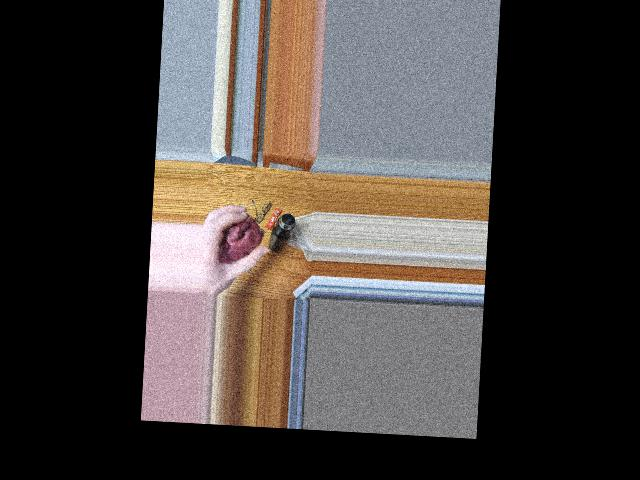onion: (219, 218, 253, 265)
